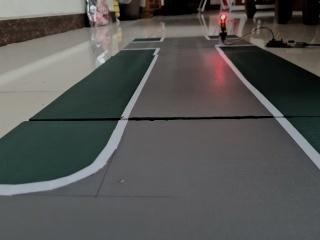red: (217, 10, 233, 36)
